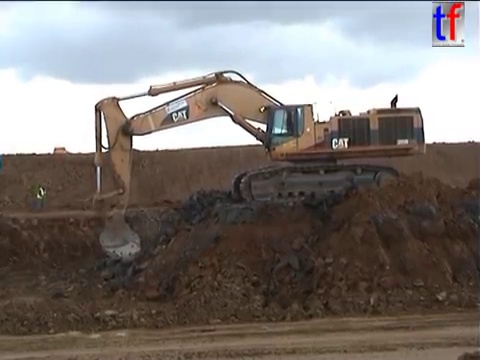excavator: (89, 67, 429, 267)
truck: (52, 145, 67, 158)
worker: (31, 180, 48, 214)
